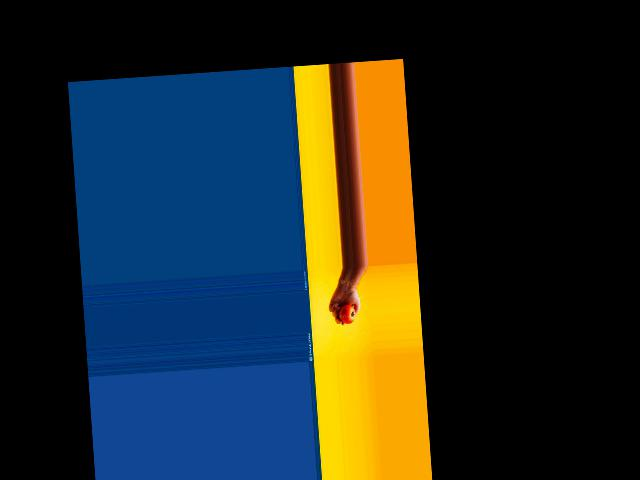tomato: (338, 303, 355, 323)
